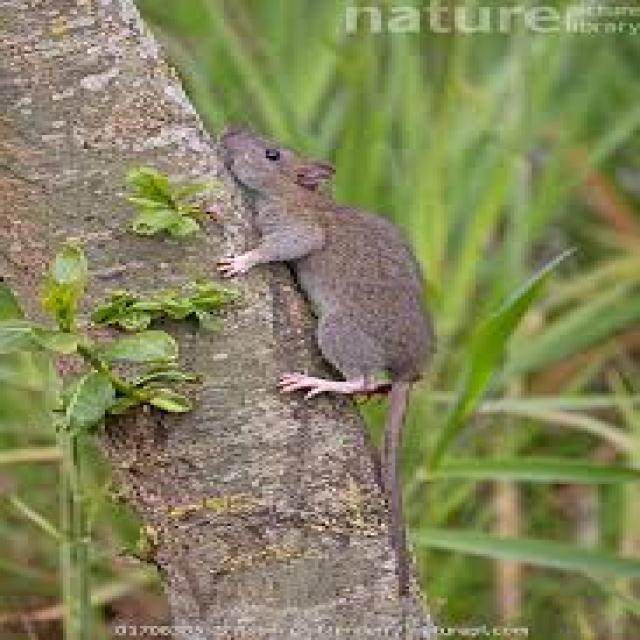Rat: (191, 88, 472, 500)
